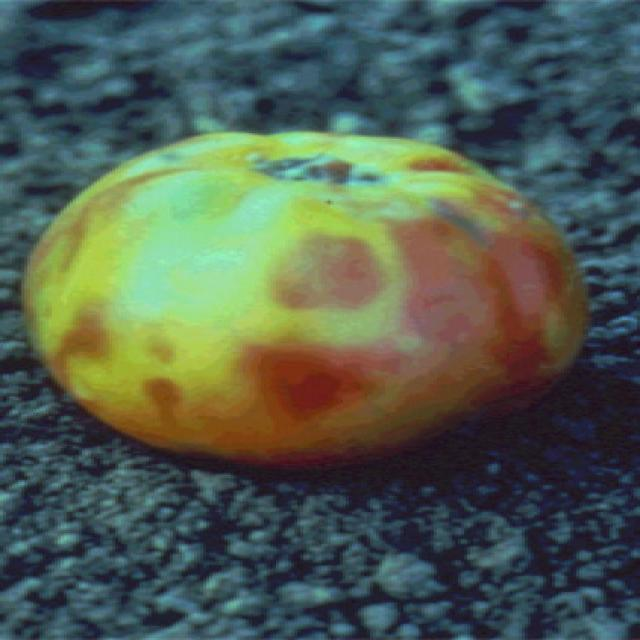Spotted wilt Virus Fruit: (27, 50, 45, 239)
